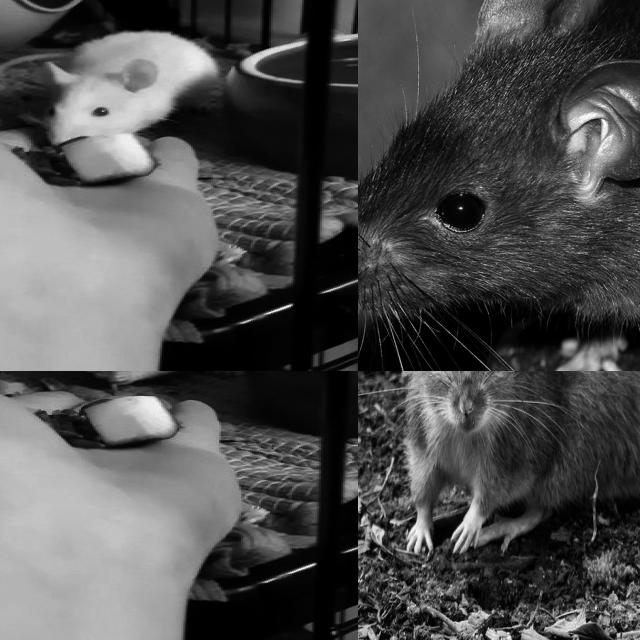rat: (358, 0, 640, 371), (397, 371, 640, 565), (32, 29, 225, 148)
